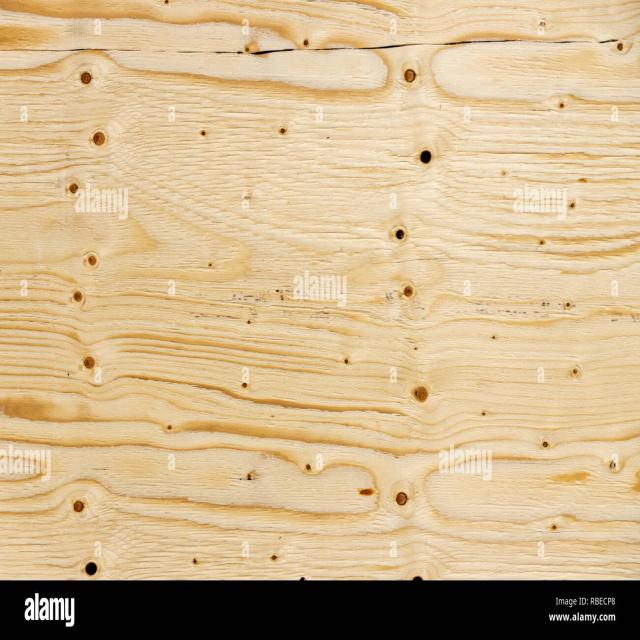have-wooden-eyes: (414, 386, 429, 403), (84, 252, 99, 268), (391, 226, 406, 241), (82, 355, 95, 369), (396, 491, 408, 505), (404, 68, 416, 82), (85, 563, 98, 575), (94, 133, 105, 146), (420, 150, 431, 163), (81, 71, 91, 85), (72, 291, 84, 302), (74, 500, 85, 512), (402, 286, 414, 297), (69, 184, 79, 193)
